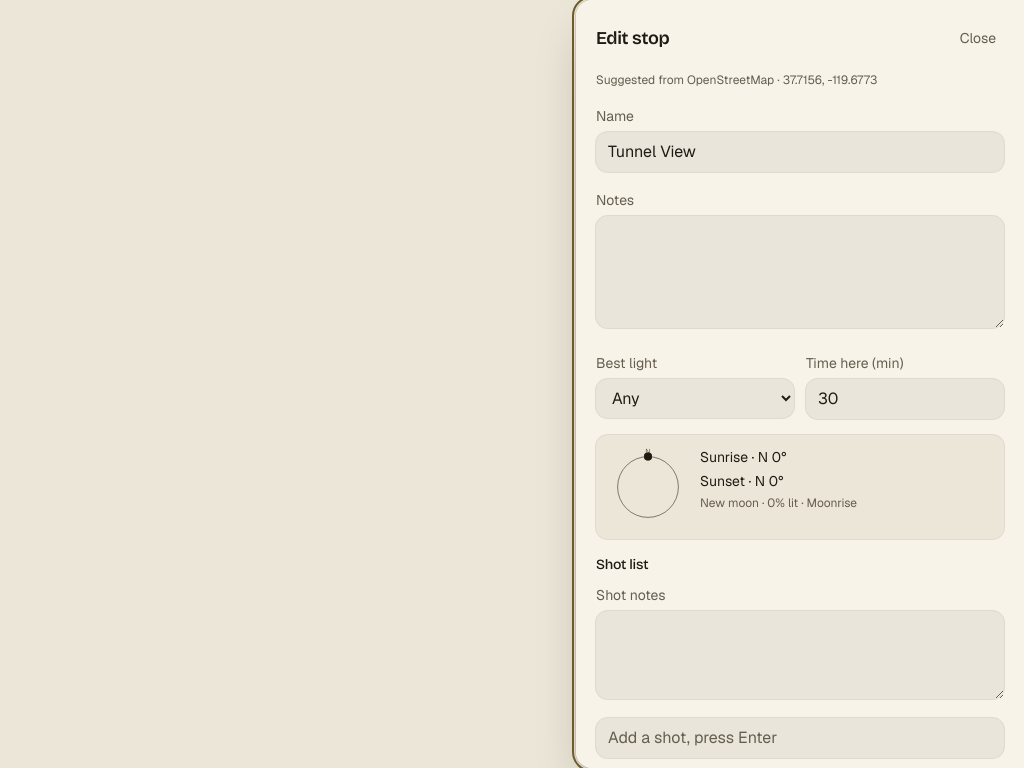
Test: StopDrawer › rejects a time here outside 0 to 480 minutes
Replace the text in the number field labelled "Time here (min)" with "500": (905, 399) x1=806 y1=379 x2=1004 y2=419
(page scrolled)
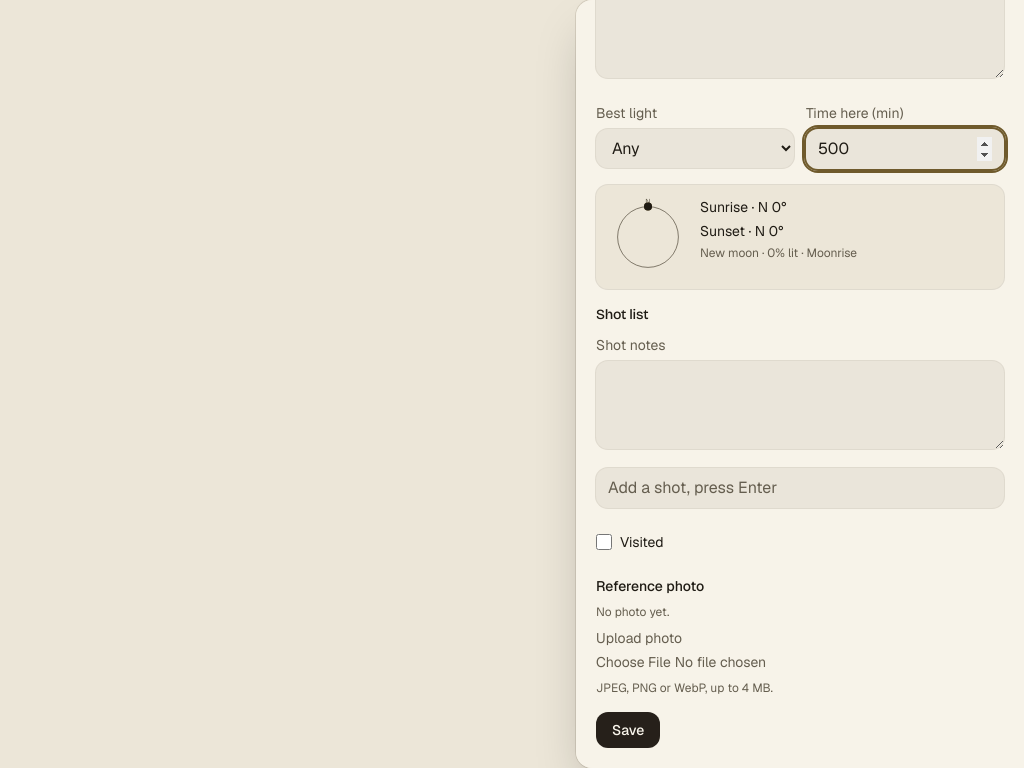
Click the button "Save": click(628, 730) x1=596 y1=712 x2=660 y2=748
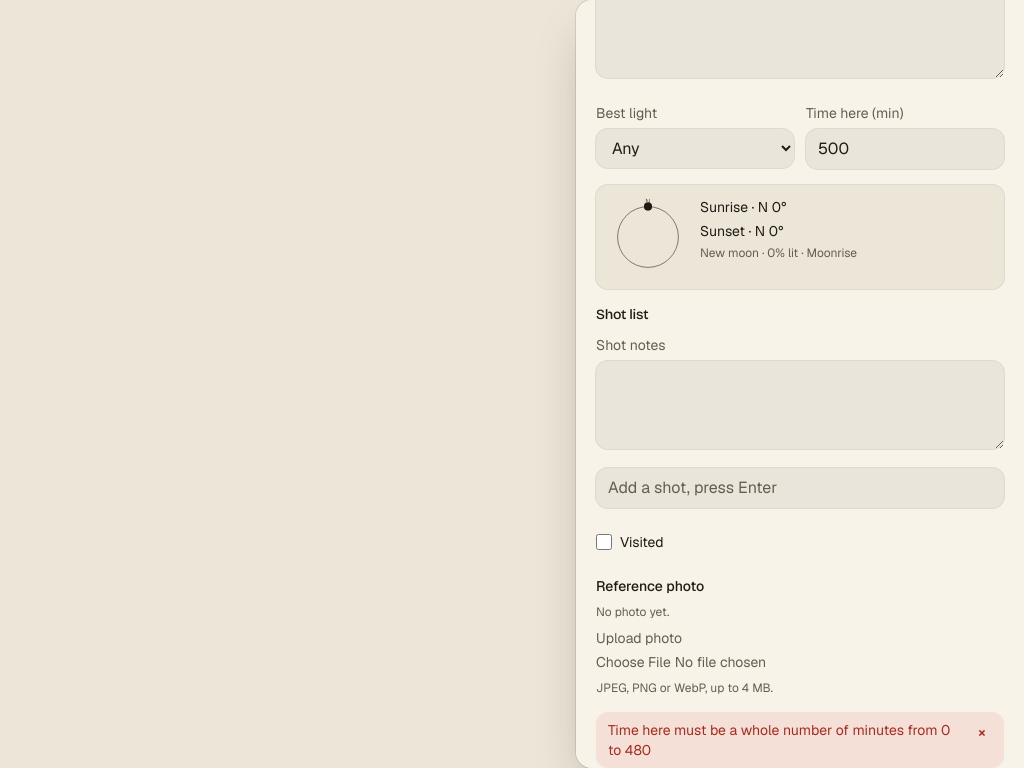
Now the message shows "0 to 480", box x1=608 y1=721 x2=950 y2=759
